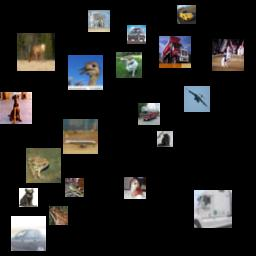airplane: (63, 119, 98, 154), (184, 86, 210, 112)
automobile: (11, 216, 46, 251), (177, 5, 196, 24), (127, 25, 146, 44)
bird: (68, 55, 103, 90), (65, 178, 84, 197)
cat: (88, 10, 110, 32), (19, 188, 38, 207), (157, 131, 173, 147)
deer: (17, 33, 55, 71)
dog: (0, 92, 32, 124), (116, 52, 142, 78), (124, 177, 146, 199)
frog: (26, 148, 61, 183), (49, 206, 68, 225)
truck: (194, 190, 232, 228), (159, 36, 191, 68), (138, 103, 160, 125)
